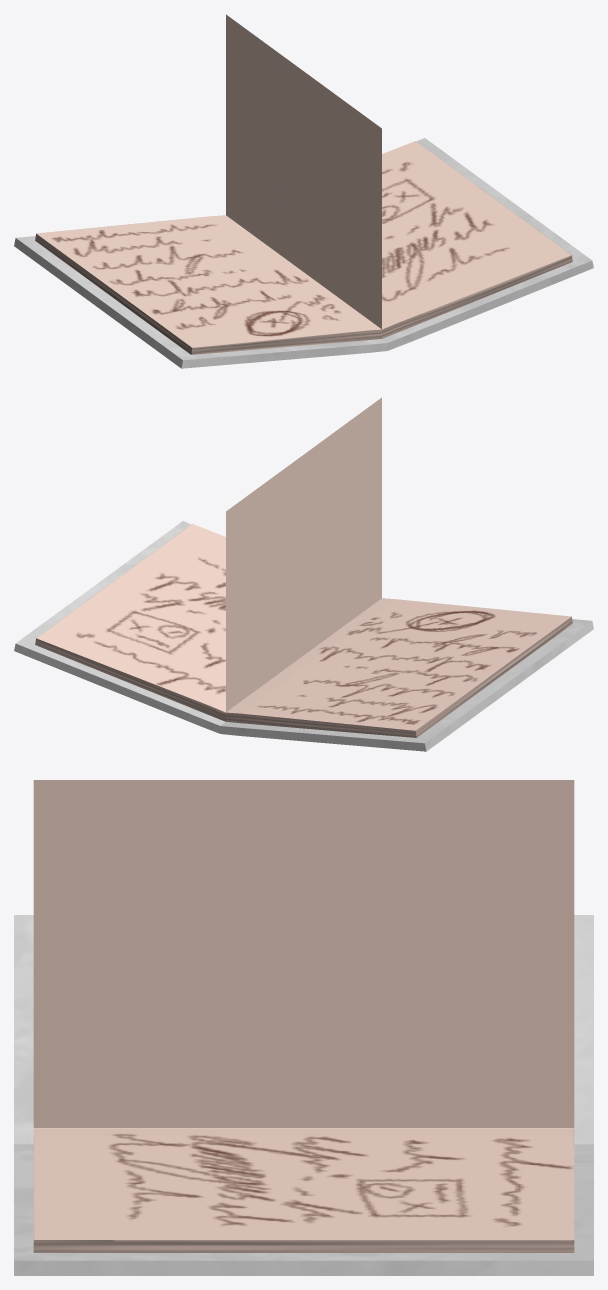
Rendered from Journal.fbx.
3 renders of one model, top to bottom at view 1: azimuth 30°, elevation 25°; view 2: azimuth 150°, elevation 25°; view 3: azimuth 270°, elevation 25°, orthographic. The views are drawn at different scales.
Parts seen in each view (by area): view 1: JournalMesh, SingularPage; view 2: JournalMesh, SingularPage; view 3: SingularPage, JournalMesh.
Part boxes in pixels (x1=…): JournalMesh: x1=14, y1=138, x2=593, y2=368; SingularPage: x1=226, y1=14, x2=381, y2=328; JournalMesh: x1=14, y1=521, x2=593, y2=751; SingularPage: x1=226, y1=397, x2=381, y2=711; SingularPage: x1=33, y1=780, x2=574, y2=1127; JournalMesh: x1=14, y1=915, x2=593, y2=1275.
Bounding box in the file's own units: 43.21 × 21.84 × 30.38.
